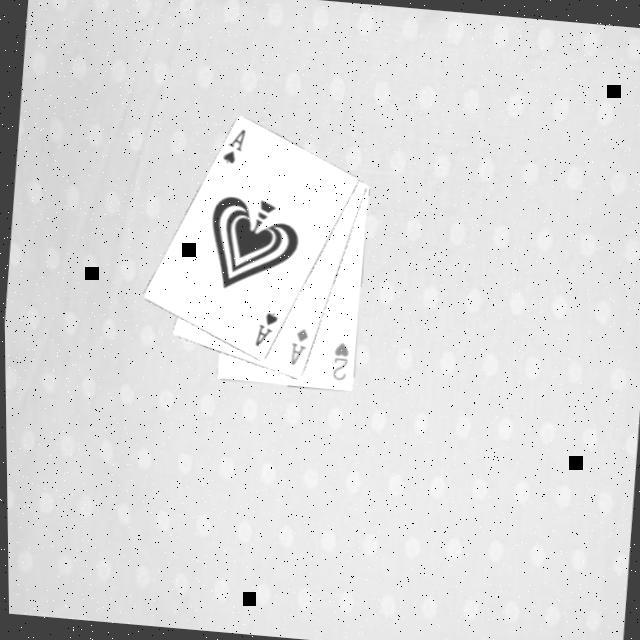2H: (328, 339, 352, 385)
AD: (285, 325, 312, 371)
AS: (250, 308, 282, 352), (218, 124, 250, 168)
